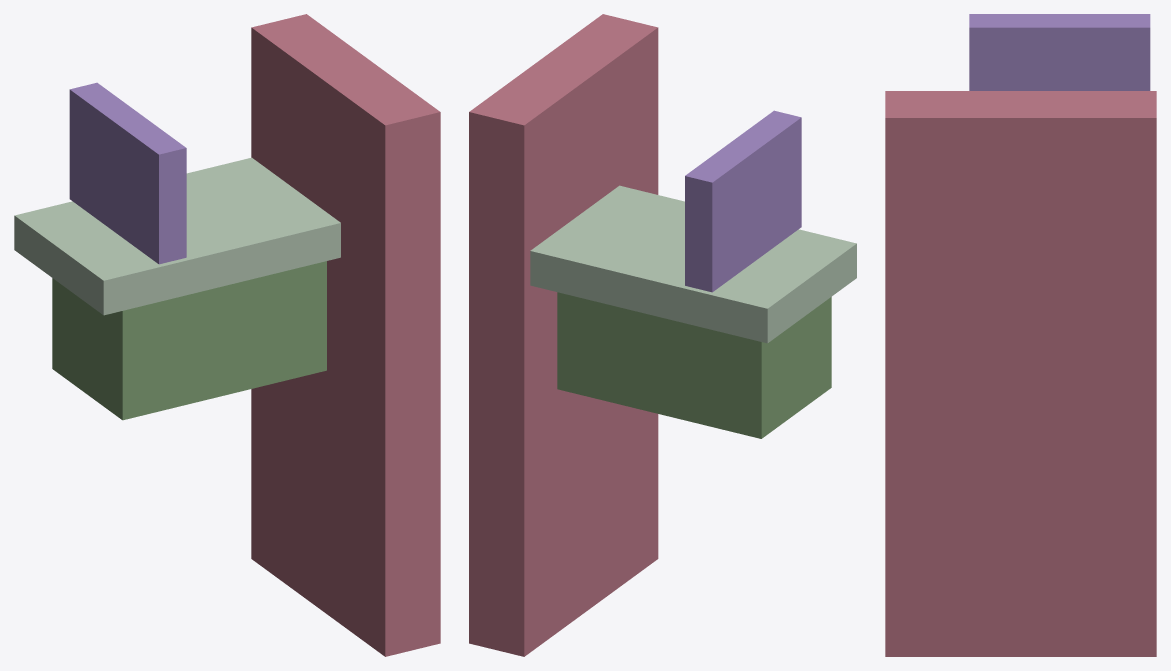
The picture shows the model from 3 angles, left to right: view 1: azimuth 30°, elevation 25°; view 2: azimuth 150°, elevation 25°; view 3: azimuth 270°, elevation 25°; orthographic projection.
Visible parts, largest first — view 1: world; view 2: world; view 3: world.
Boxes of the visible parts, bbox=[...] form: world: bbox=[14, 14, 440, 656]; world: bbox=[469, 14, 856, 656]; world: bbox=[885, 14, 1156, 656].
Size of the model in its own units: 5.35 by 9.2 by 4.2.
